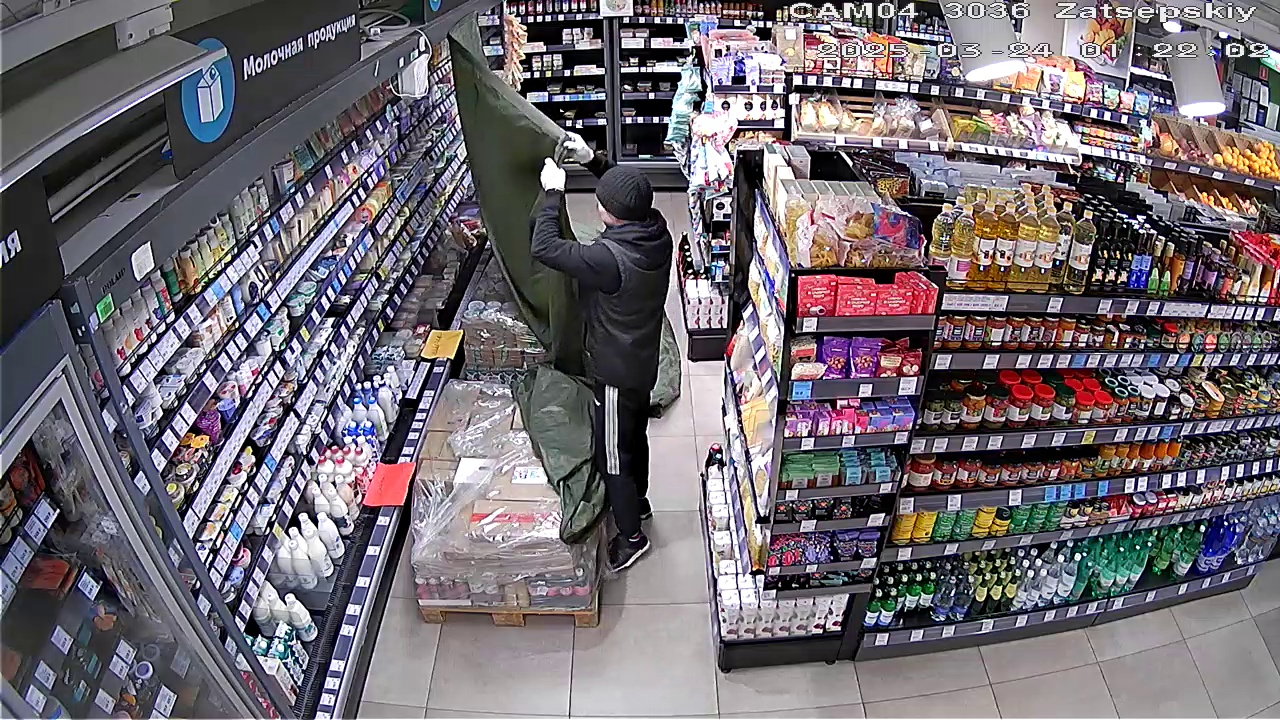Human: (533, 125, 667, 574)
pallet: (413, 374, 587, 608)
